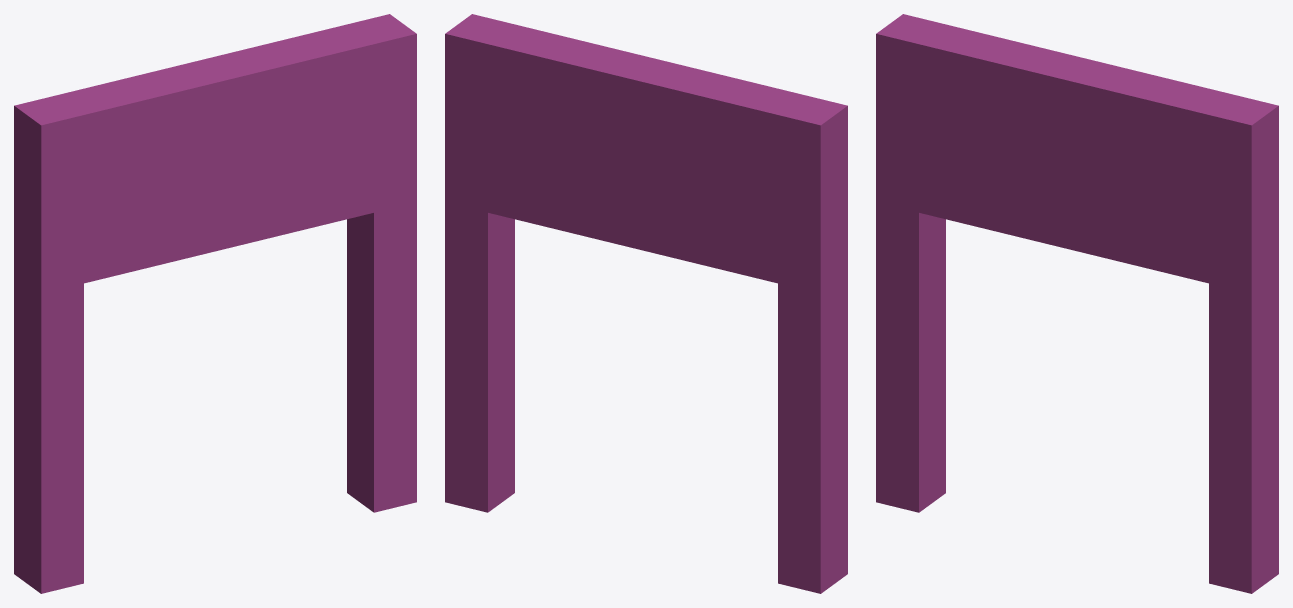
Rendered from SM_Bld_Base_Wall_Door_Double_01_Collision.glb.
The picture shows the model from 3 angles, left to right: view 1: azimuth 30°, elevation 25°; view 2: azimuth 150°, elevation 25°; view 3: azimuth 330°, elevation 25°; orthographic projection.
Visible parts, largest first — view 1: SM_Bld_Base_Wall_Door_Double_01_Collision2; view 2: SM_Bld_Base_Wall_Door_Double_01_Collision2; view 3: SM_Bld_Base_Wall_Door_Double_01_Collision2.
Part boxes in pixels (bbox=[...]): SM_Bld_Base_Wall_Door_Double_01_Collision2: bbox=[14, 14, 416, 593]; SM_Bld_Base_Wall_Door_Double_01_Collision2: bbox=[445, 14, 847, 593]; SM_Bld_Base_Wall_Door_Double_01_Collision2: bbox=[876, 14, 1278, 593].
Bounding box in the file's own units: 2.53 × 3.02 × 0.3156.
